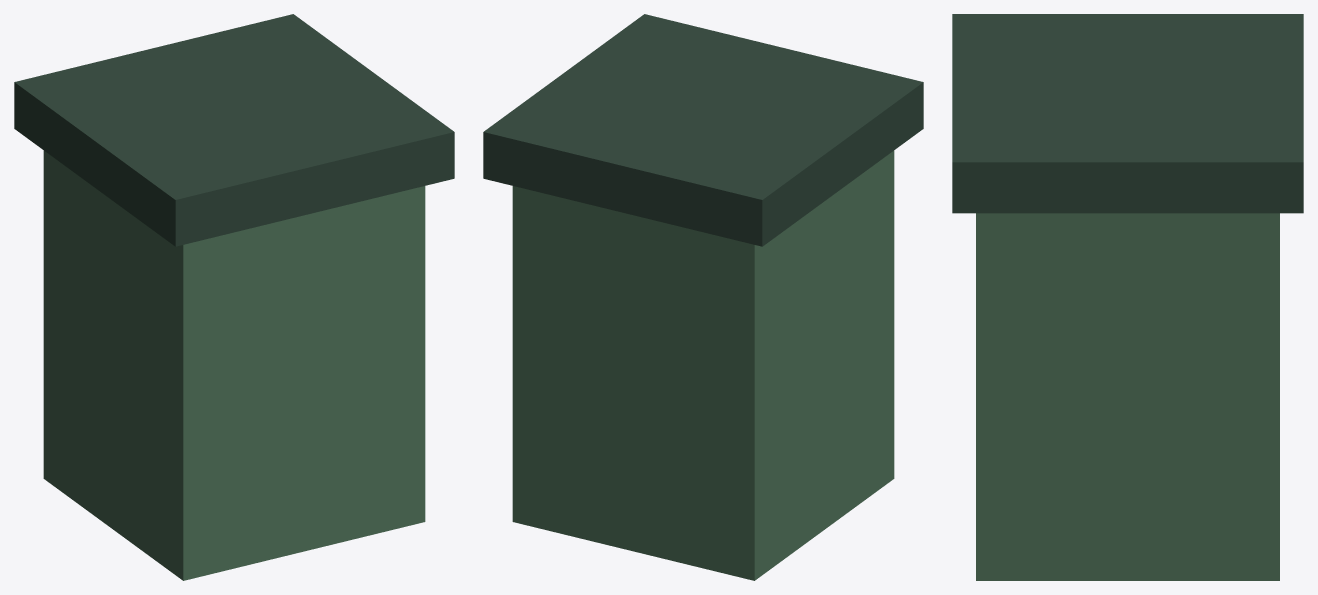
Rendered from trash_bin.glb.
The picture shows the model from 3 angles, left to right: view 1: azimuth 30°, elevation 25°; view 2: azimuth 150°, elevation 25°; view 3: azimuth 270°, elevation 25°; orthographic projection. The views are drawn at different scales.
Visible parts, largest first — view 1: _MeshInstance3D_498, _MeshInstance3D_499; view 2: _MeshInstance3D_498, _MeshInstance3D_499; view 3: _MeshInstance3D_498, _MeshInstance3D_499.
Part boxes in pixels (x1,y1,x2,y2): _MeshInstance3D_498: (43, 150, 425, 580); _MeshInstance3D_499: (14, 14, 454, 246); _MeshInstance3D_498: (512, 150, 894, 580); _MeshInstance3D_499: (483, 14, 923, 246); _MeshInstance3D_498: (976, 213, 1279, 580); _MeshInstance3D_499: (952, 14, 1303, 213).
Bounding box in the file's own units: 0.75 × 1.01 × 0.75.
